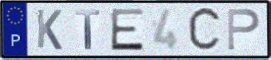4: (151, 7, 182, 53)
C: (187, 5, 224, 55)
E: (109, 7, 146, 52)
K: (35, 7, 64, 51)
P: (226, 7, 262, 52)
T: (74, 9, 102, 51)
